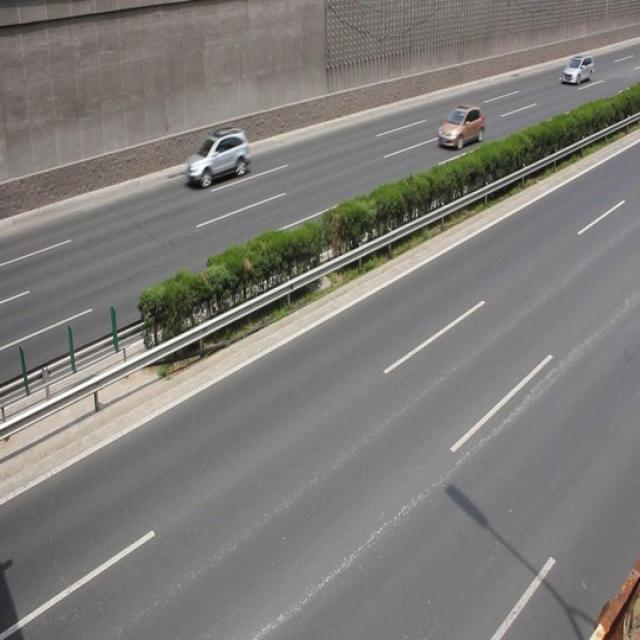car: (186, 127, 248, 189), (436, 104, 484, 150), (560, 56, 593, 84)
